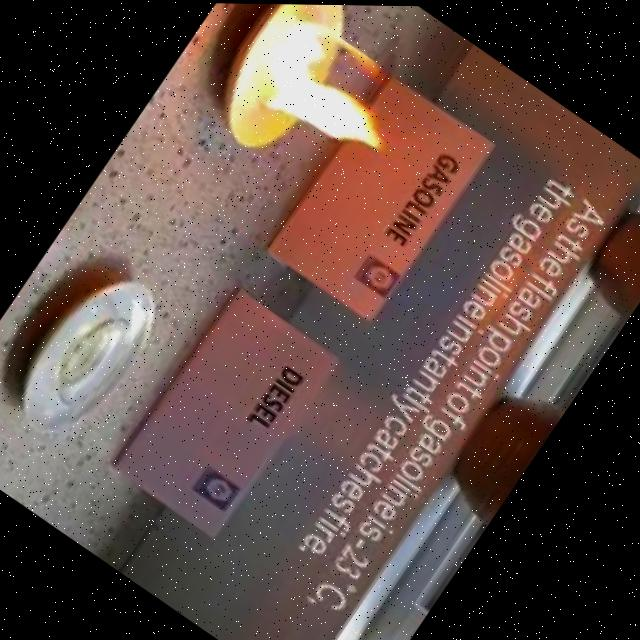Fire: (217, 3, 432, 186)
